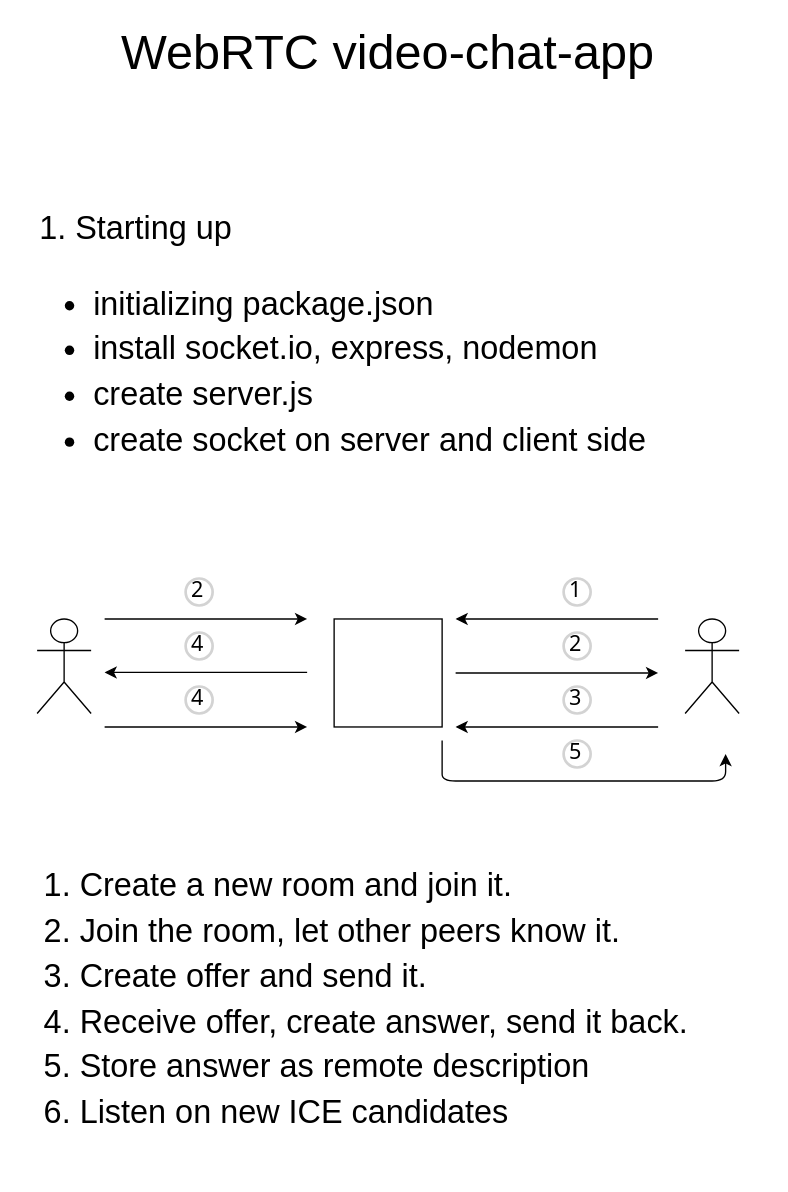
Image size: 788x1192. Some labels were removed from this diagram. Here are the shapes that lost their labels. From the top down, the centre of each, then its label:
At (x=63, y=665): "Peer 1".
At (x=387, y=672): "Signaling Service - Room #1".
At (x=711, y=665): "Peer 2".
